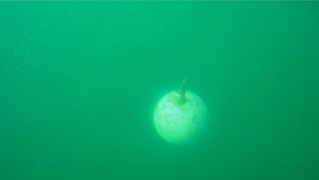buoy: (152, 89, 210, 146)
